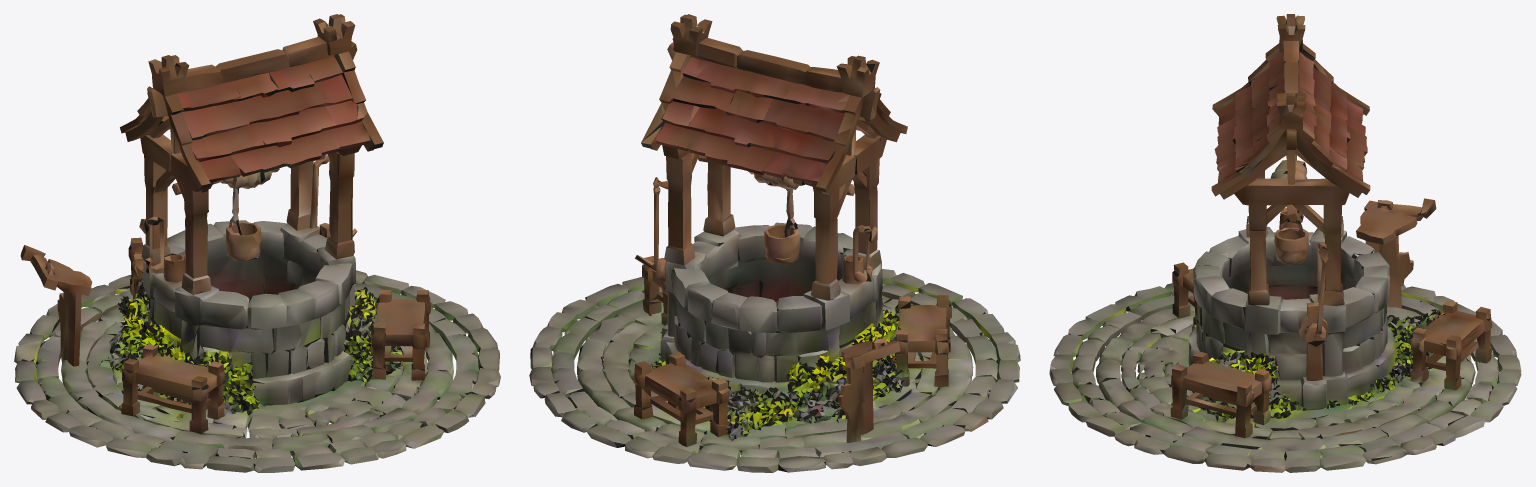
File: WellCobble.glb
3 views of the same model, side by side, from view 1: azimuth 30°, elevation 25°; view 2: azimuth 150°, elevation 25°; view 3: azimuth 270°, elevation 25° (orthographic). The views are drawn at different scales.
Visible parts, largest first — view 1: WellCobble; view 2: WellCobble; view 3: WellCobble.
Boxes of the visible parts, x1,y1,x2,y2 form: WellCobble: (14,14,500,472); WellCobble: (529,14,1020,472); WellCobble: (1049,14,1521,472).
Size of the model in its own units: 6.6 by 4.98 by 6.6.
Materials: 1 (1 with a texture image).
